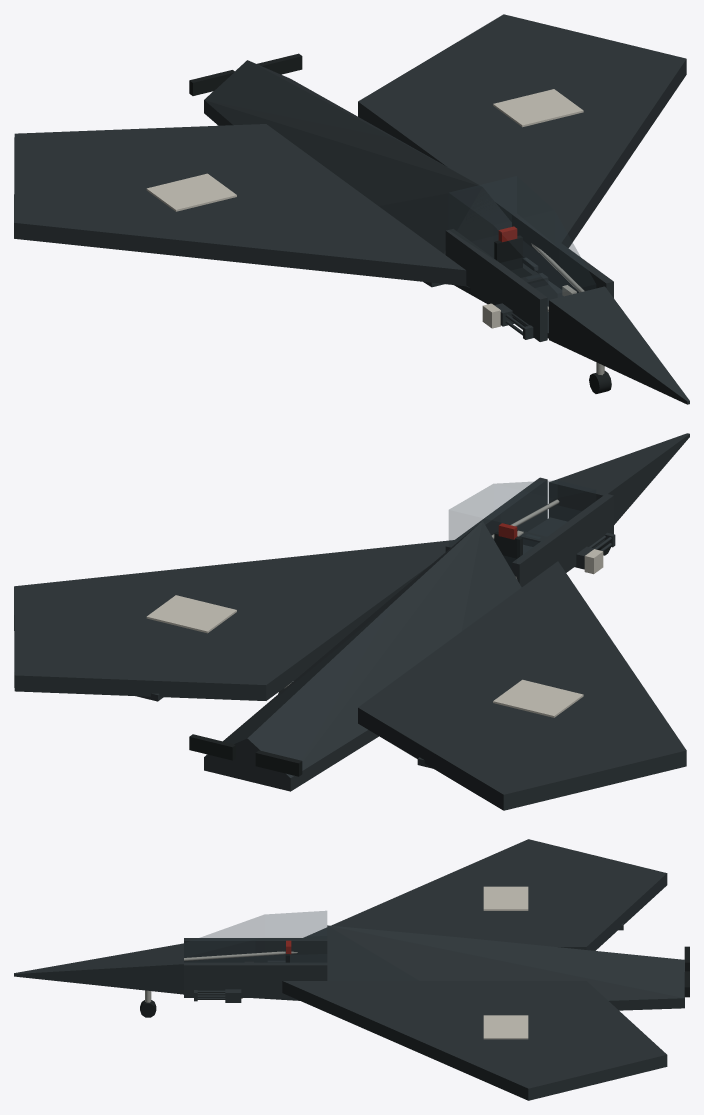
The picture shows the model from 3 angles, top to bottom: view 1: azimuth 30°, elevation 25°; view 2: azimuth 150°, elevation 25°; view 3: azimuth 270°, elevation 25°; orthographic projection. The views are drawn at different scales.
Visible parts, largest first — view 1: stealth-jet-painted, stealth-canopy-glazing, crew-chair-pilot-painted, machine-gun-fixed-pitch-stealth-left-painted; view 2: stealth-jet-painted, stealth-canopy-glazing, crew-chair-pilot-painted, machine-gun-fixed-pitch-stealth-left-painted; view 3: stealth-jet-painted, stealth-canopy-glazing.
Part boxes in pixels (box(x1,y1,x2,y2)): stealth-jet-painted: box(14, 14, 689, 404); stealth-canopy-glazing: box(449, 176, 595, 312); crew-chair-pilot-painted: box(494, 226, 548, 287); machine-gun-fixed-pitch-stealth-left-painted: box(482, 303, 513, 328); stealth-jet-painted: box(14, 433, 689, 810); stealth-canopy-glazing: box(449, 480, 595, 569); crew-chair-pilot-painted: box(494, 523, 546, 569); machine-gun-fixed-pitch-stealth-left-painted: box(575, 546, 603, 574); stealth-jet-painted: box(14, 839, 689, 1100); stealth-canopy-glazing: box(184, 911, 326, 963).
Size of the model in its own units: 78.16 by 13.45 by 89.47.
